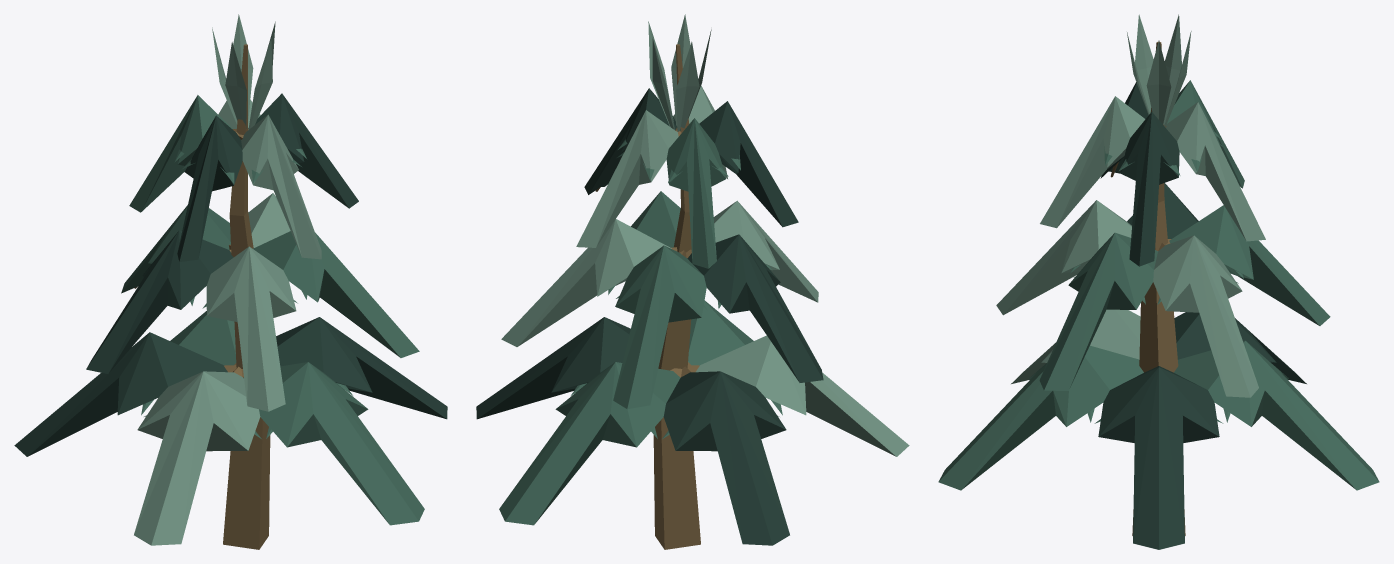
The model's file is ALPINE_DWARF_PINE.lo.glb.
3 views of the same model, side by side, from view 1: azimuth 30°, elevation 25°; view 2: azimuth 150°, elevation 25°; view 3: azimuth 270°, elevation 25° (orthographic).
Parts seen in each view (by area): view 1: ALPINE_DWARF_PINE; view 2: ALPINE_DWARF_PINE; view 3: ALPINE_DWARF_PINE.
Boxes of the visible parts, bbox=[...] form: ALPINE_DWARF_PINE: bbox=[14, 14, 447, 549]; ALPINE_DWARF_PINE: bbox=[476, 14, 909, 549]; ALPINE_DWARF_PINE: bbox=[938, 14, 1379, 549].
Size of the model in its own units: 0.6828 by 0.9122 by 0.7133.
1 material, 1 textured.
